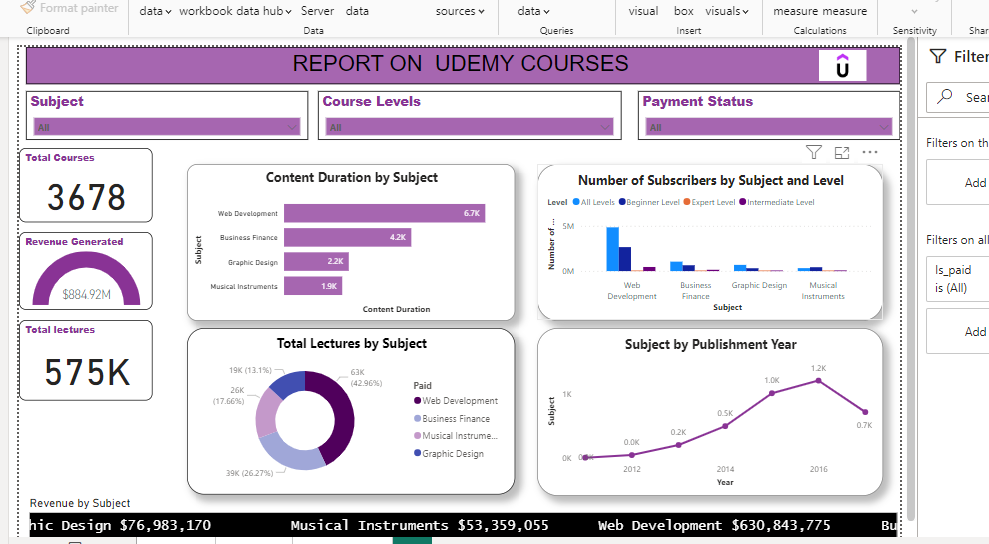

What the dashboard file says about the page in this screenshot:
{"tool":"powerbi","page":{"name":"Dashboard","canvas":[1280,720],"ordinal":2},"visuals":[{"type":"textbox","box":[9.7,0,1270.3,53.6],"z":0},{"type":"card","title":"Revenue Generated","fields":{"Values":["Sum(udemy_courses - udemy_courses.Revenue)"]},"box":[0,269.2,193.6,113.3],"z":1000},{"type":"card","title":"Total Courses","fields":{"Values":["CountNonNull(udemy_courses - udemy_courses.Course_title)"]},"box":[0,147.4,193.6,108.4],"z":2000},{"type":"card","title":"Total lectures","fields":{"Values":["Sum(udemy_courses - udemy_courses.Num_reviews)"]},"box":[0,397,193.6,116.9],"z":3000},{"type":"slicer","title":"Subject","fields":{"Values":["udemy_courses - udemy_courses.Subject"]},"box":[9.7,64.5,410.4,70.6],"z":4000},{"type":"slicer","title":" Course Levels","fields":{"Values":["udemy_courses - udemy_courses.Level"]},"box":[434.8,64.5,440.9,70.6],"z":5000},{"type":"clusteredColumnChart","title":"Number of Subscribers by Subject and Level","fields":{"Category":["udemy_courses - udemy_courses.Subject"],"Series":["udemy_courses - udemy_courses.Level"],"Y":["Sum(udemy_courses - udemy_courses.Num_subcribers)"]},"box":[752.3,169.6,503,227.6],"z":6000},{"type":"ScrollingTextVisual1448795304508","title":"Revenue by Subject","fields":{"Category":["udemy_courses - udemy_courses.Subject"],"Measure Absolute":["Sum(udemy_courses - udemy_courses.Revenue)"]},"box":[10.1,652.3,1270.1,67.7],"z":7000},{"type":"slicer","title":"Payment Status","fields":{"Values":["udemy_courses - udemy_courses.Is_paid"]},"box":[898.8,64.5,381.2,70.6],"z":8000},{"type":"image","box":[1161.9,3.7,69.4,45.1],"z":9000},{"type":"lineChart","title":"Subject by Publishment Year","fields":{"Category":["udemy_courses - udemy_courses.Publiished Date.Variation.Date Hierarchy.Year","udemy_courses - udemy_courses.Publiished Date.Variation.Date Hierarchy.Quarter","udemy_courses - udemy_courses.Publiished Date.Variation.Date Hierarchy.Month","udemy_courses - udemy_courses.Publiished Date.Variation.Date Hierarchy.Day"],"Y":["CountNonNull(udemy_courses - udemy_courses.Subject)"]},"box":[752.3,408.8,503,243.5],"z":10000},{"type":"clusteredBarChart","title":"Content Duration by Subject","fields":{"Category":["udemy_courses - udemy_courses.Subject"],"Y":["Sum(udemy_courses - udemy_courses.Content_duration)"]},"box":[243.5,169.6,476.9,227.6],"z":11000},{"type":"donutChart","title":"Total Lectures by Subject","fields":{"Y":["Sum(udemy_courses - udemy_courses.Num_lectures)"],"Category":["udemy_courses - udemy_courses.Subject"]},"box":[243.5,408.8,476.9,242.1],"z":12000}]}

Visuals, with their boxes on the page's 1280x720 design canvas (x1, y1, x2, y2). These are canvas units, not pixel positions in the 989x544 screenshot, which may show the page scaled, cropped or inside an application window:
textbox: locate(10, 0, 1280, 54)
"Revenue Generated" card: locate(0, 269, 194, 382)
"Total Courses" card: locate(0, 147, 194, 256)
"Total lectures" card: locate(0, 397, 194, 514)
"Subject" slicer: locate(10, 64, 420, 135)
" Course Levels" slicer: locate(435, 64, 876, 135)
"Number of Subscribers by Subject and Level" clusteredColumnChart: locate(752, 170, 1255, 397)
"Revenue by Subject" ScrollingTextVisual1448795304508: locate(10, 652, 1280, 720)
"Payment Status" slicer: locate(899, 64, 1280, 135)
image: locate(1162, 4, 1231, 49)
"Subject by Publishment Year" lineChart: locate(752, 409, 1255, 652)
"Content Duration by Subject" clusteredBarChart: locate(244, 170, 720, 397)
"Total Lectures by Subject" donutChart: locate(244, 409, 720, 651)
